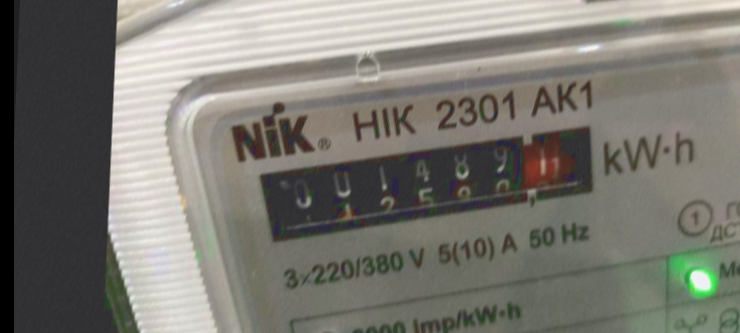0: (327, 164, 354, 201), (288, 176, 314, 212)
1: (531, 141, 552, 179), (371, 162, 392, 194)
4: (410, 153, 433, 185)
8: (450, 147, 472, 184)
9: (489, 143, 510, 176)
screen: (243, 102, 625, 269)
